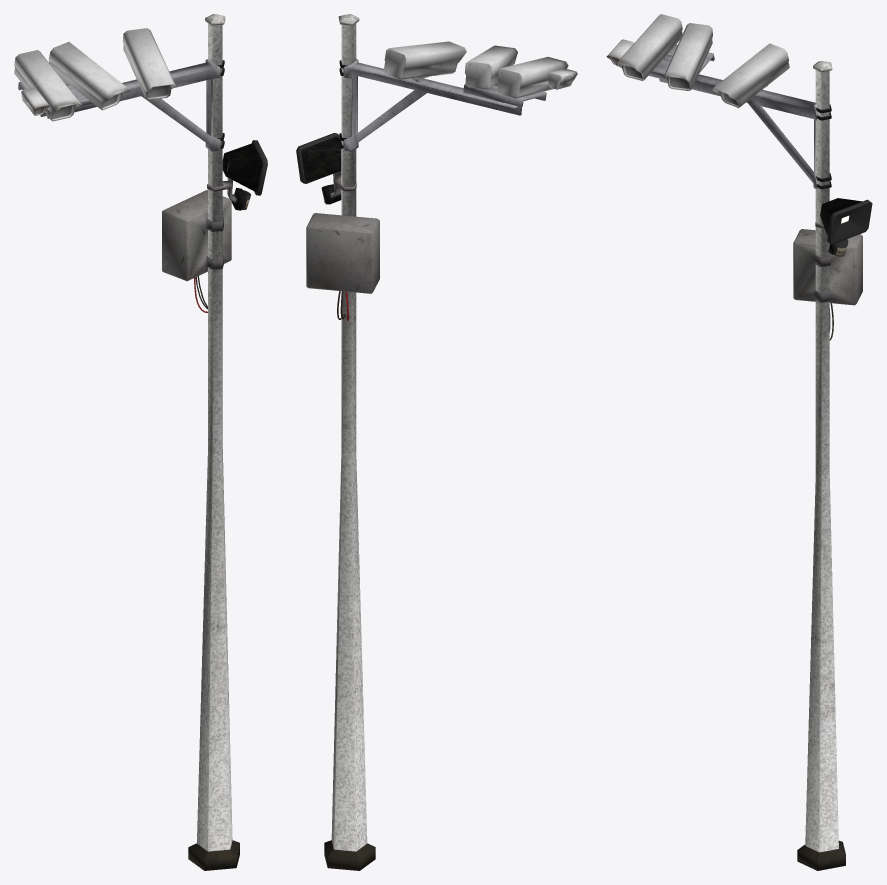
The model's file is post_medium.glb.
The picture shows the model from 3 angles, left to right: view 1: azimuth 30°, elevation 25°; view 2: azimuth 150°, elevation 25°; view 3: azimuth 330°, elevation 25°; orthographic projection. The views are drawn at different scales.
Visible parts, largest first — view 1: post_medium; view 2: post_medium; view 3: post_medium.
Boxes of the visible parts, x1,y1,x2,y2 form: post_medium: (14, 14, 267, 870); post_medium: (296, 14, 577, 870); post_medium: (606, 14, 872, 870).
Bounding box in the file's own units: 1.03 × 3.31 × 0.4095.
6 materials, 6 textured.
